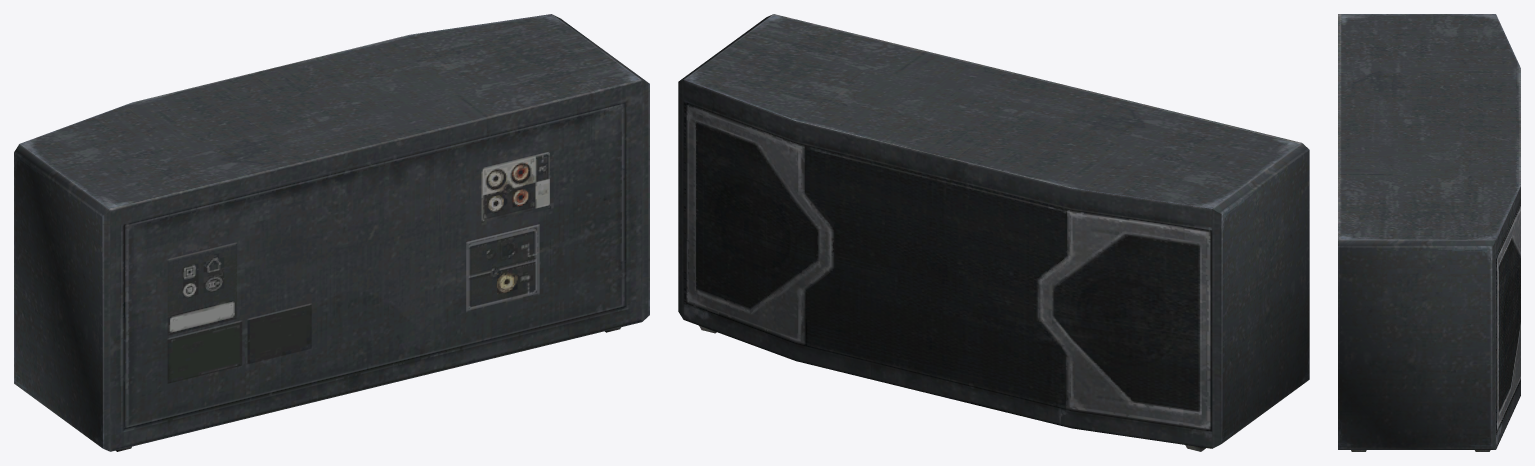
File: Prop_Yx08.glb
3 views of the same model, side by side, from view 1: azimuth 30°, elevation 25°; view 2: azimuth 150°, elevation 25°; view 3: azimuth 270°, elevation 25° (orthographic). The views are drawn at different scales.
Parts seen in each view (by area): view 1: xiutz_yx_08; view 2: xiutz_yx_08; view 3: xiutz_yx_08.
Boxes of the visible parts, x1,y1,x2,y2 form: xiutz_yx_08: (14,14,649,451); xiutz_yx_08: (678,14,1309,451); xiutz_yx_08: (1338,14,1520,451).
Bounding box in the file's own units: 1.1 × 0.4838 × 0.3669.
1 material, 1 textured.
